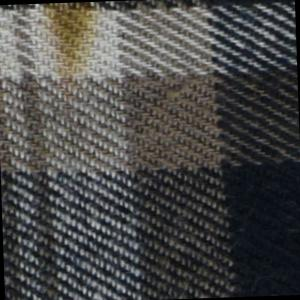Oil Stain: (38, 3, 106, 90)
